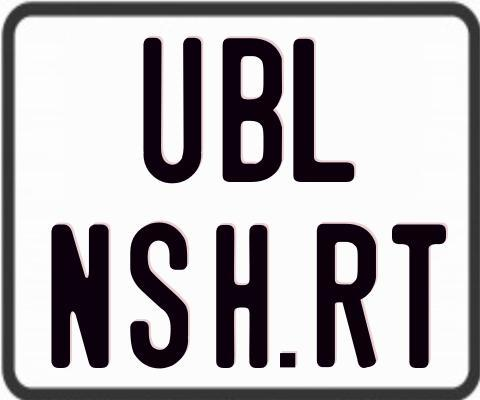B: (222, 36, 285, 180)
H: (216, 225, 273, 370)
L: (290, 36, 357, 181)
N: (49, 224, 110, 374)
R: (317, 222, 377, 367)
S: (127, 221, 189, 371)
T: (392, 223, 447, 368)
U: (143, 37, 202, 184)
